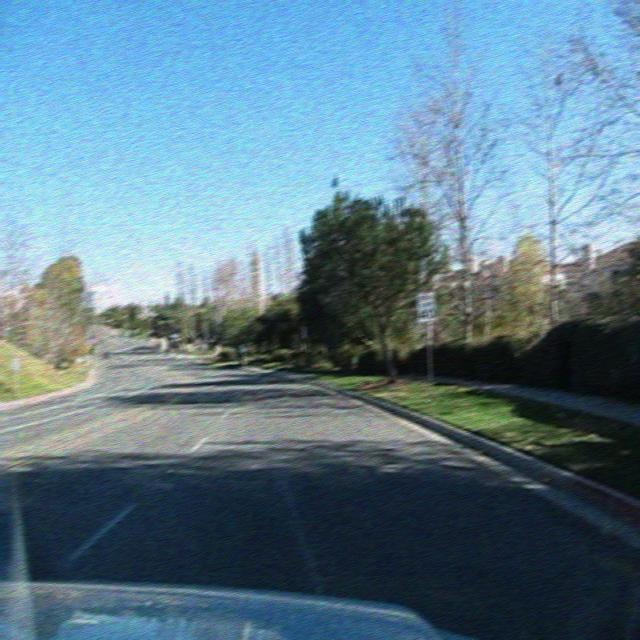speedLimit40: (416, 289, 438, 323)
